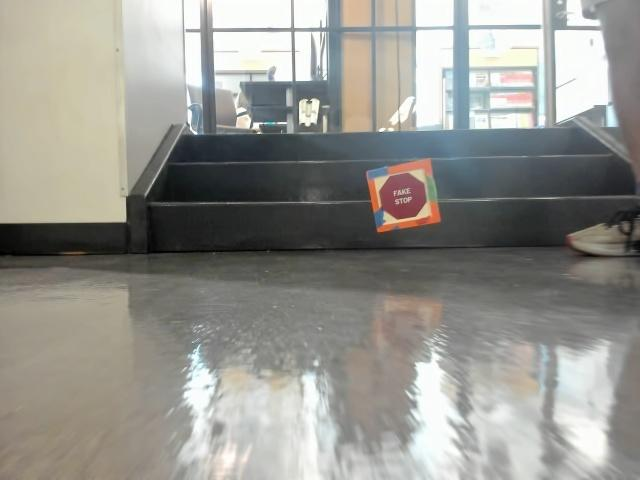Fake Stop: (375, 177, 422, 221)
